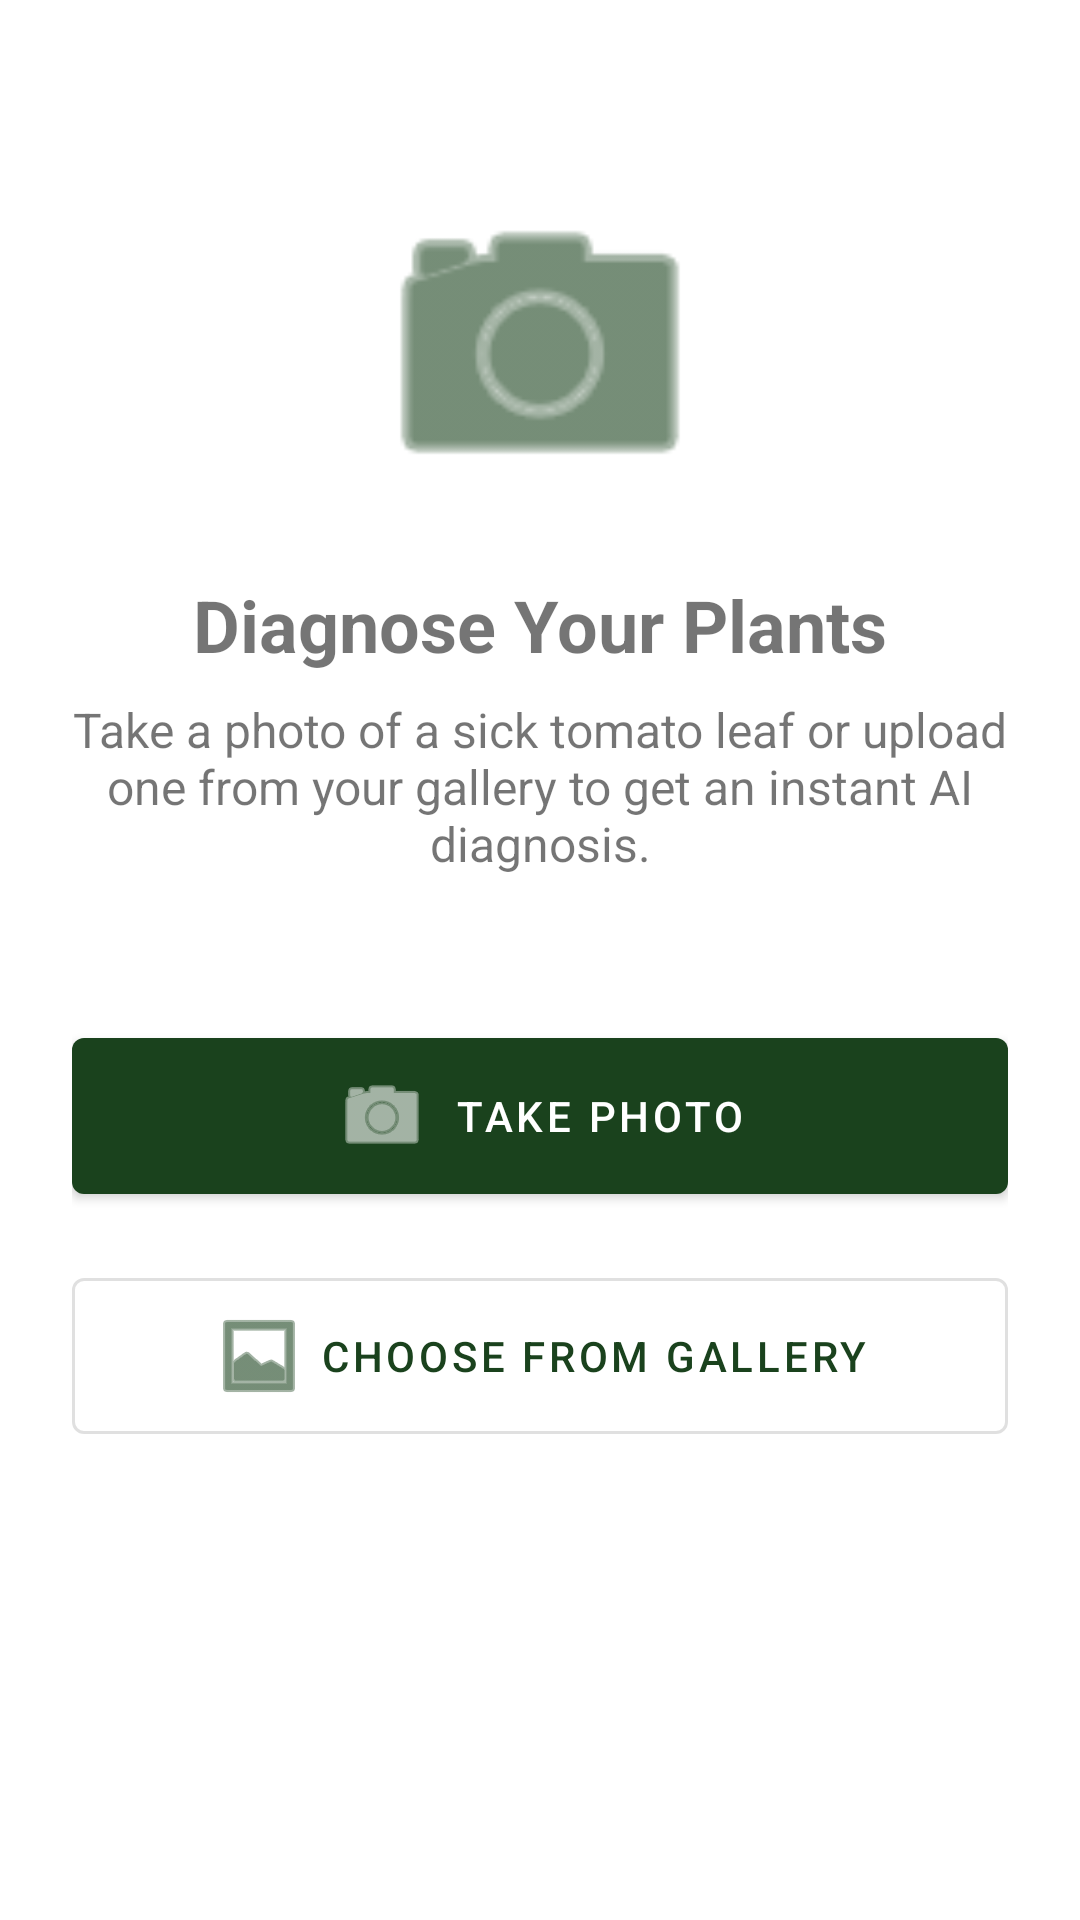

Named icons in this screenshot (1080px×1920px) and their bounding boxes, [x1, y1, x2, y2]:
camera: [401, 231, 679, 453]
